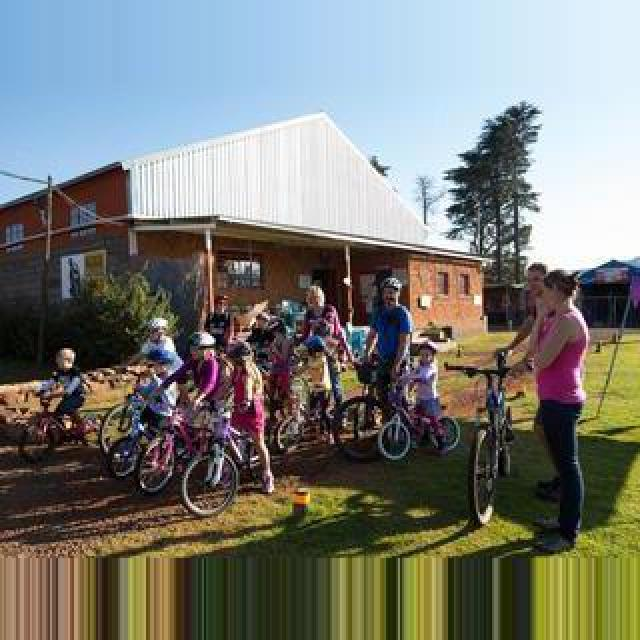MC-Bike: (496, 266, 590, 542), (172, 330, 236, 490), (294, 284, 354, 442), (222, 328, 276, 496), (362, 274, 414, 432), (252, 310, 296, 446), (36, 342, 88, 428), (404, 340, 444, 450), (138, 320, 180, 370)
Person: (452, 356, 528, 530), (180, 404, 276, 520), (10, 370, 108, 472), (374, 384, 460, 462)
